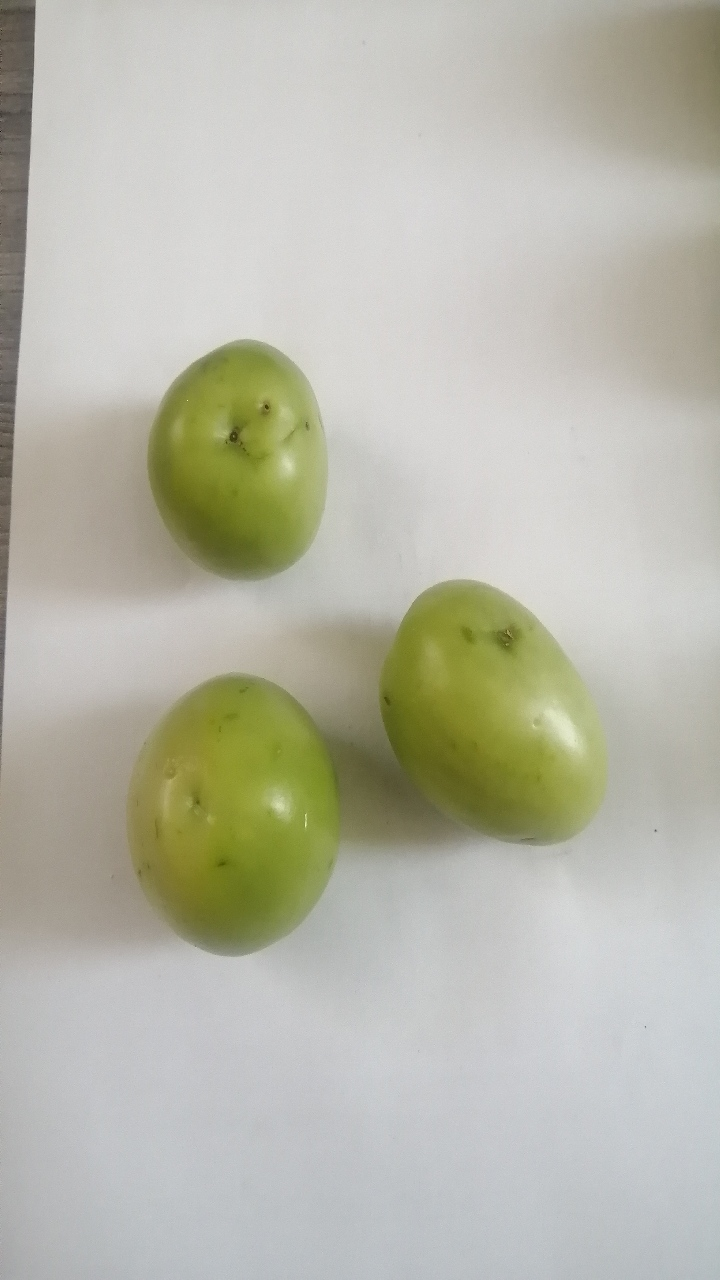tomateVerde: (349, 557, 621, 872), (104, 655, 360, 982), (106, 308, 344, 589)
